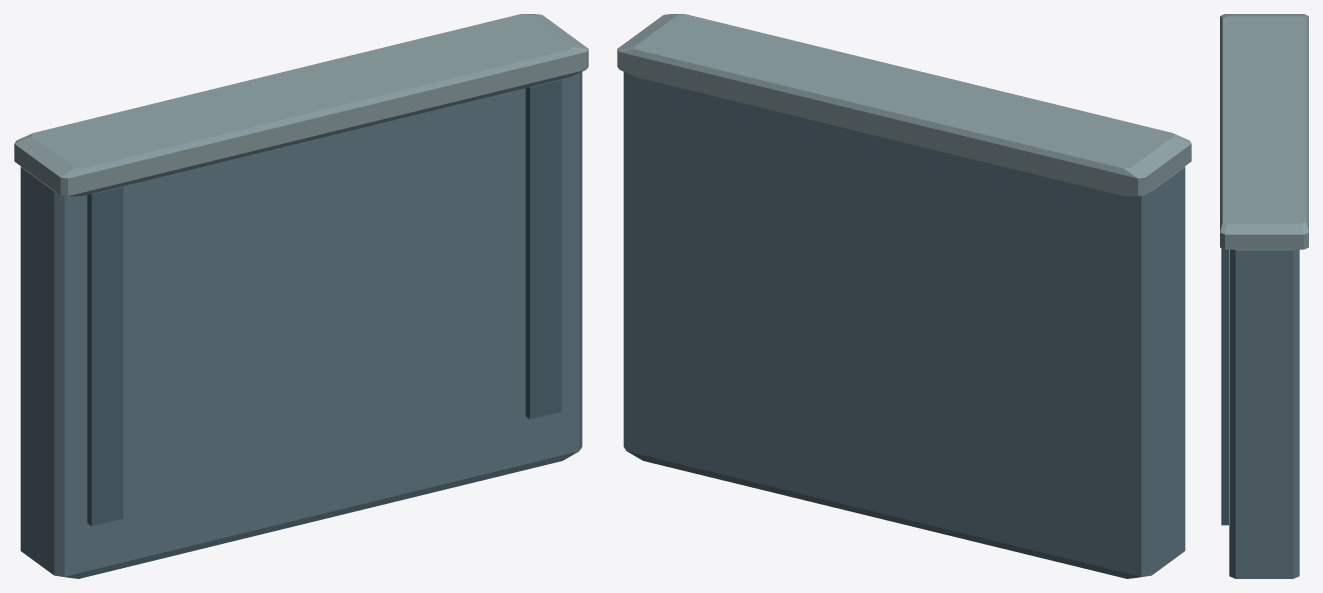
The model's file is SM_ELY_MOD_000_Wall2m.glb.
3 views of the same model, side by side, from view 1: azimuth 30°, elevation 25°; view 2: azimuth 150°, elevation 25°; view 3: azimuth 270°, elevation 25° (orthographic). The views are drawn at different scales.
Parts seen in each view (by area): view 1: SM_ELY_MOD_000_Wall2m; view 2: SM_ELY_MOD_000_Wall2m; view 3: SM_ELY_MOD_000_Wall2m.
Boxes of the visible parts, box(x1,y1,x2,y2) form: SM_ELY_MOD_000_Wall2m: box(14, 14, 588, 578); SM_ELY_MOD_000_Wall2m: box(617, 14, 1191, 578); SM_ELY_MOD_000_Wall2m: box(1220, 14, 1308, 578).
Bounding box in the file's own units: 2 × 1.5 × 0.34.
